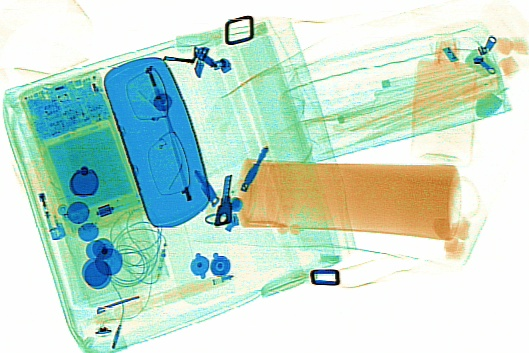lighter: (21, 157, 64, 240)
